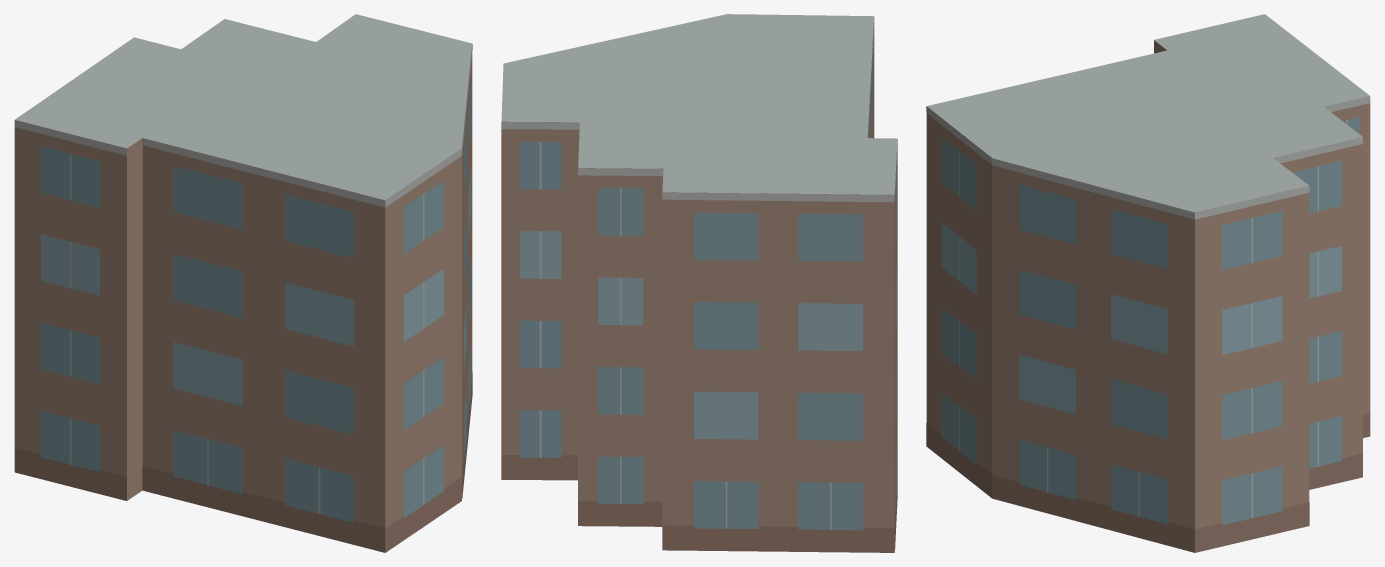
File: survey-upis-32610611.glb
The picture shows the model from 3 angles, left to right: view 1: azimuth 30°, elevation 25°; view 2: azimuth 150°, elevation 25°; view 3: azimuth 270°, elevation 25°; orthographic projection. The views are drawn at different scales.
Parts seen in each view (by area): view 1: survey-upis-32610611.tmp; view 2: survey-upis-32610611.tmp; view 3: survey-upis-32610611.tmp.
Part boxes in pixels (x1,y1,x2,y2): survey-upis-32610611.tmp: (14, 14, 472, 552); survey-upis-32610611.tmp: (501, 14, 897, 552); survey-upis-32610611.tmp: (926, 14, 1370, 552).
Size of the model in its own units: 14.71 by 11.75 by 13.9.
